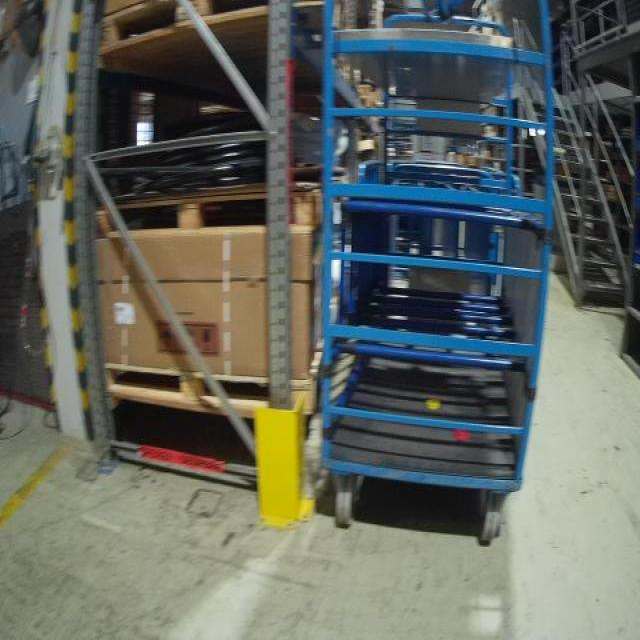pallet: (101, 337, 327, 421), (100, 0, 325, 83), (96, 179, 322, 239)
